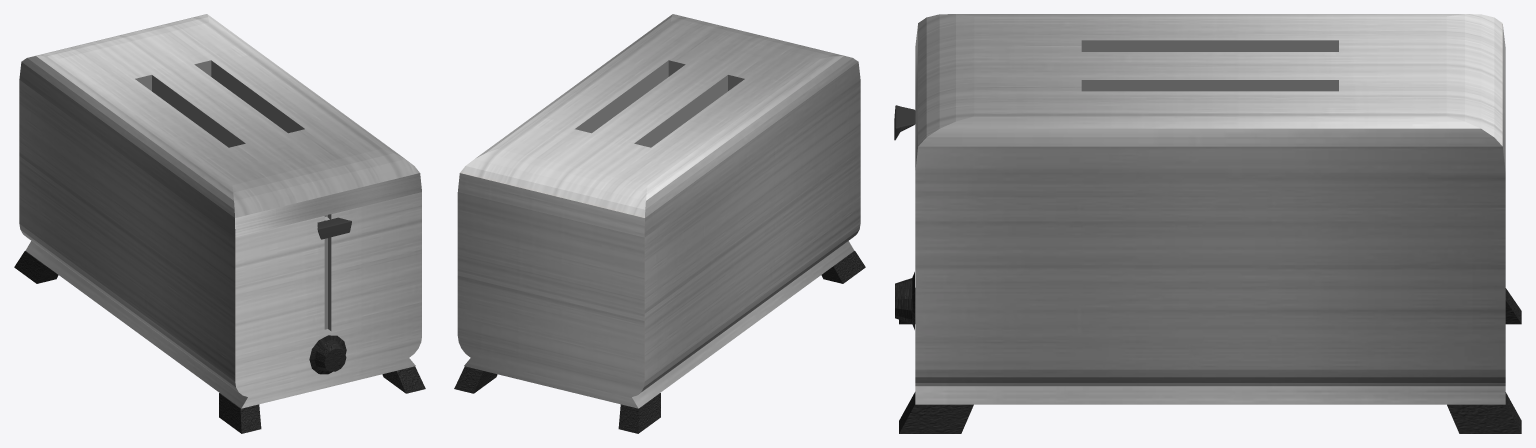
File: toasterWTextures.fbx
The picture shows the model from 3 angles, left to right: view 1: azimuth 30°, elevation 25°; view 2: azimuth 150°, elevation 25°; view 3: azimuth 270°, elevation 25°; orthographic projection. The views are drawn at different scales.
Parts seen in each view (by area): view 1: polySurface2, polySurface3, polySurface1, polySurface5, polySurface4, polySurface7; view 2: polySurface2, polySurface5, polySurface1, polySurface6; view 3: polySurface2, polySurface4, polySurface6, polySurface3.
Boxes of the visible parts, box(x1,y1,x2,y2) form: polySurface2: box(19, 14, 421, 408); polySurface3: box(309, 335, 346, 374); polySurface1: box(219, 393, 261, 433); polySurface5: box(14, 251, 58, 283); polySurface4: box(382, 366, 425, 393); polySurface7: box(317, 217, 351, 239); polySurface2: box(457, 14, 860, 408); polySurface5: box(618, 393, 660, 433); polySurface1: box(821, 251, 865, 283); polySurface6: box(454, 366, 497, 393); polySurface2: box(915, 14, 1505, 404); polySurface4: box(899, 392, 973, 433); polySurface6: box(1447, 392, 1521, 433); polySurface3: box(895, 272, 914, 329).
Size of the model in its own units: 5 by 5.73 by 10.63.
Materials: 5 (2 with a texture image).
